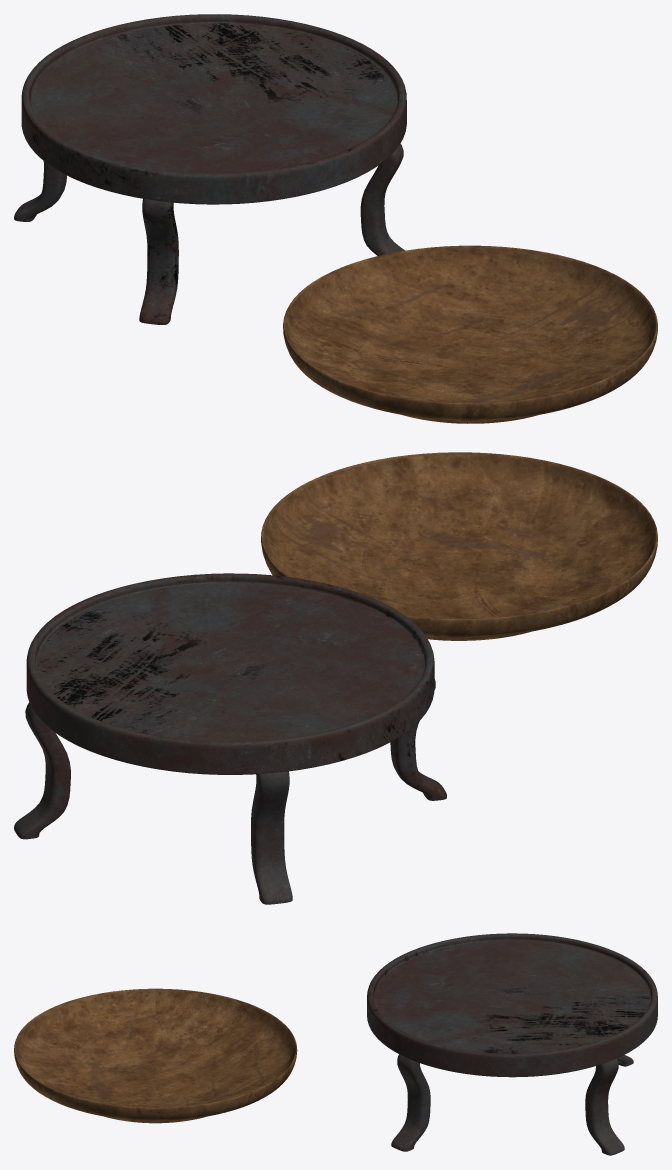
File: TEST_Dirty.fbx
3 views of the same model, one above another, from view 1: azimuth 30°, elevation 25°; view 2: azimuth 150°, elevation 25°; view 3: azimuth 270°, elevation 25° (orthographic). The views are drawn at different scales.
Parts seen in each view (by area): view 1: Pot_Stand_Dirty, Clay_Plate_Dirty; view 2: Pot_Stand_Dirty, Clay_Plate_Dirty; view 3: Pot_Stand_Dirty, Clay_Plate_Dirty.
Part boxes in pixels (<box>): Pot_Stand_Dirty: <box>14,14,406,324</box>; Clay_Plate_Dirty: <box>283,245,657,423</box>; Pot_Stand_Dirty: <box>14,573,446,904</box>; Clay_Plate_Dirty: <box>261,452,657,640</box>; Pot_Stand_Dirty: <box>367,933,657,1155</box>; Clay_Plate_Dirty: <box>14,988,297,1123</box>.
Bounding box in the file's own units: 0.3282 × 0.1314 × 0.6939.
2 materials, 2 textured.
